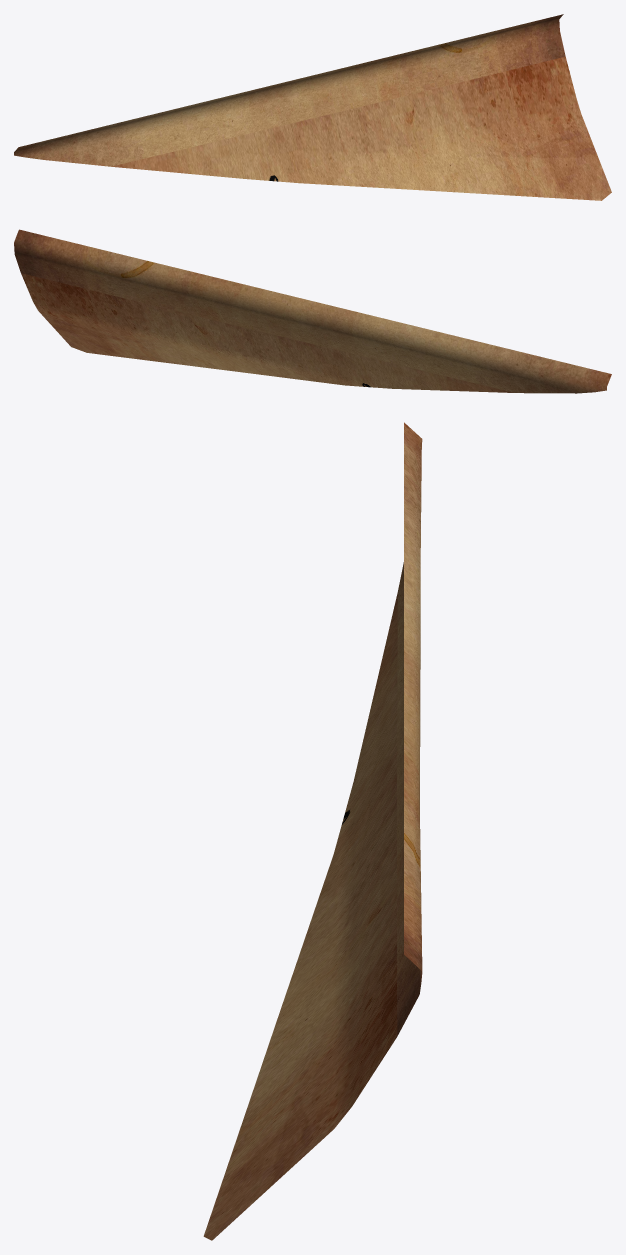
File: lettre_partie1.fbx
3 views of the same model, one above another, from view 1: azimuth 30°, elevation 25°; view 2: azimuth 150°, elevation 25°; view 3: azimuth 270°, elevation 25° (orthographic). The views are drawn at different scales.
Parts seen in each view (by area): view 1: polySurface2; view 2: polySurface2; view 3: polySurface2.
Boxes of the visible parts, left/top/right/bottom form: polySurface2: left=14, top=14, right=611, bottom=200; polySurface2: left=14, top=229, right=611, bottom=393; polySurface2: left=203, top=422, right=422, bottom=1240.
Bounding box in the file's own units: 5.08 × 1.31 × 0.8835.
